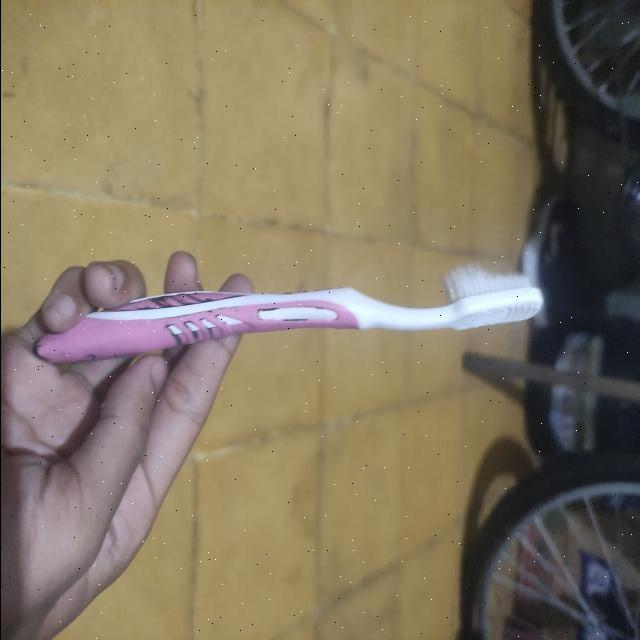toothbrush: (31, 238, 556, 402)
